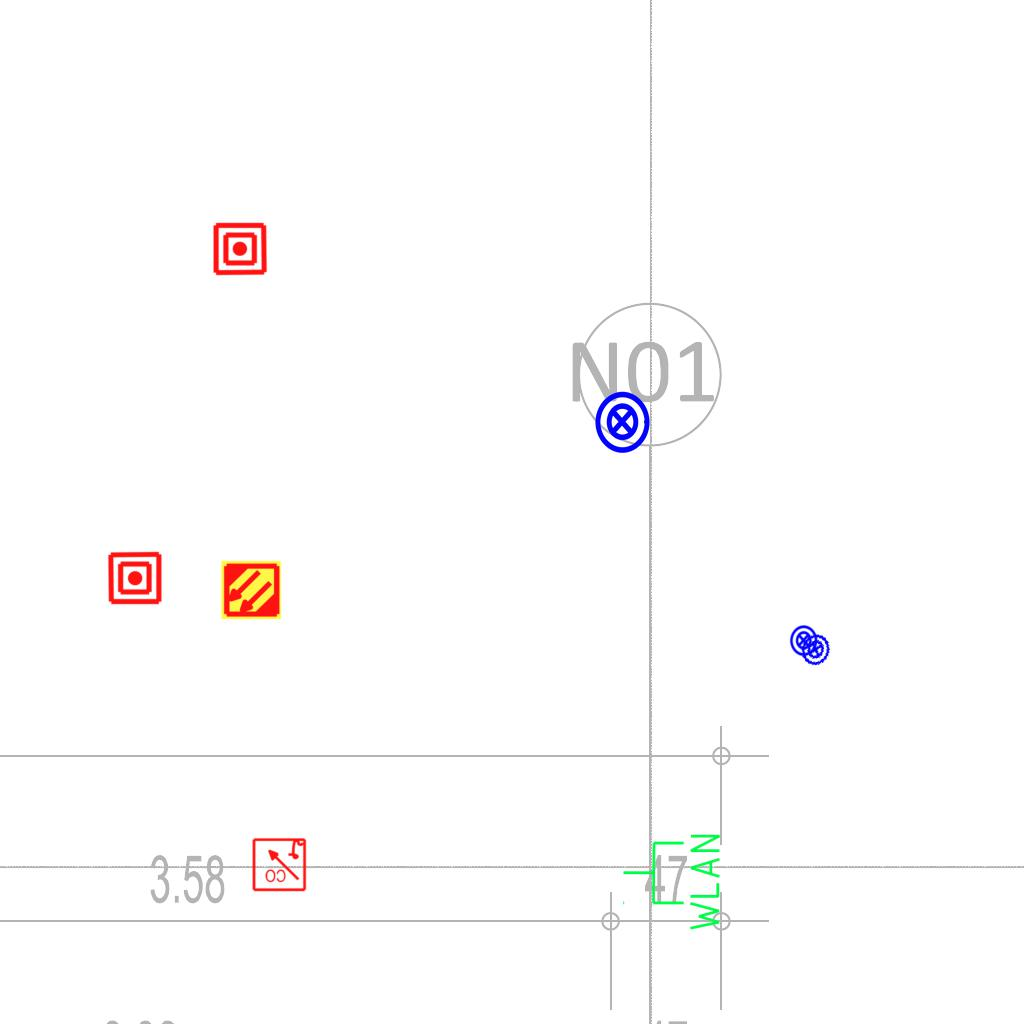ASR_Ansaugrauchmelder: (220, 559, 282, 621)
NAM-Nichtautomatischer_Melder: (212, 221, 268, 277), (107, 550, 163, 606)
ROA_Rauchmelder_optisch_mit_Signalgeber_(Sockelsirene): (251, 836, 307, 892)
Taster_beleuchtet: (589, 389, 655, 455), (794, 628, 837, 671), (787, 624, 820, 657)
WLAN: (620, 830, 724, 935)
